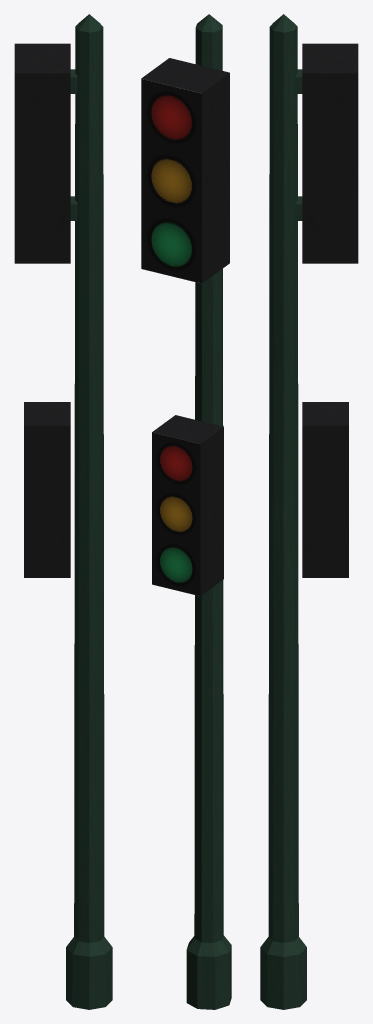
File: SM_Morin_Semaforo_LOD1.fbx
3 renders of one model, left to right at view 1: azimuth 90°, elevation 25°; view 2: azimuth 150°, elevation 25°; view 3: azimuth 270°, elevation 25°, orthographic.
Parts seen in each view (by area): view 1: SM_Morin_Semaforo_LOD1; view 2: SM_Morin_Semaforo_LOD1; view 3: SM_Morin_Semaforo_LOD1.
Boxes of the visible parts, x1,y1,x2,y2 form: SM_Morin_Semaforo_LOD1: (14, 14, 112, 1009); SM_Morin_Semaforo_LOD1: (141, 14, 231, 1009); SM_Morin_Semaforo_LOD1: (260, 14, 358, 1009).
Bounding box in the file's own units: 30 × 42.1 × 466.
1 material, 1 textured.
